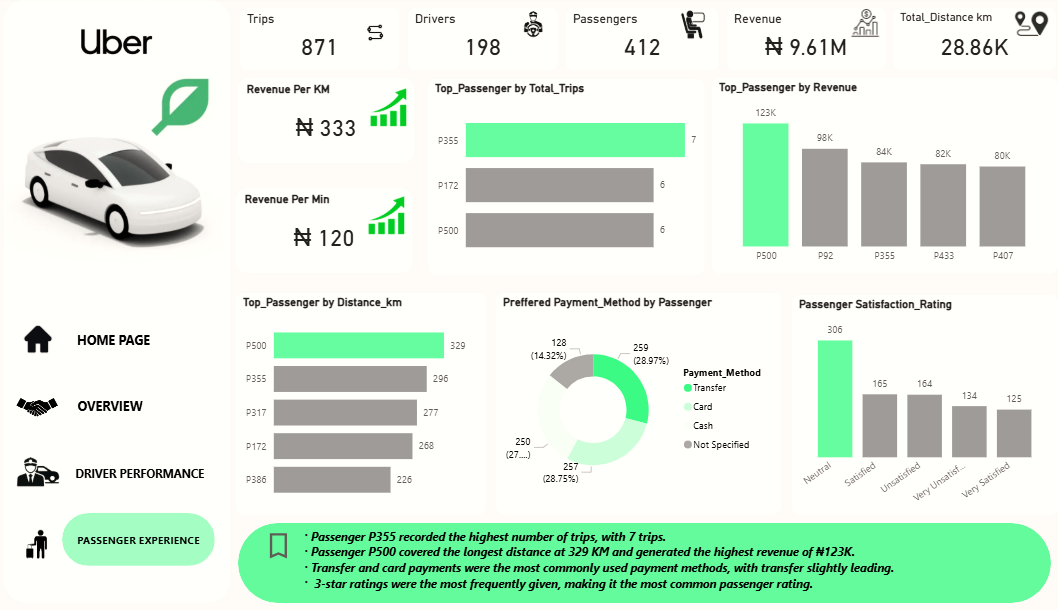

The dashboard page shown, as its layout file describes it:
{"tool":"powerbi","page":{"name":"PASSENGERS","canvas":[1350,780],"ordinal":3},"visuals":[{"type":"card","title":"Trips","fields":{"Values":["uber cleaned dataset.Total_Trips"]},"box":[306.3,14.9,202,78.6],"z":0},{"type":"card","title":"Drivers","fields":{"Values":["uber cleaned dataset.Total_Drivers"]},"box":[519.1,14.9,189.8,78.6],"z":1000},{"type":"card","title":"Passengers","fields":{"Values":["uber cleaned dataset.Total_passengers"]},"box":[719.7,14.9,193.8,78.6],"z":2000},{"type":"card","title":"Revenue","fields":{"Values":["Sum(uber cleaned dataset.Clean_Fare)"]},"box":[924.4,14.9,200.6,78.6],"z":3000},{"type":"card","title":"Total_Distance km","fields":{"Values":["Sum(uber cleaned dataset.Distance_km)"]},"box":[1135.8,14.9,207.4,78.6],"z":4000},{"type":"shape","box":[6.4,3.8,287.1,767.3],"z":5000},{"type":"barChart","title":"Top_Passenger by Total_Trips","fields":{"Category":["uber cleaned dataset.Passenger_ID"],"Y":["uber cleaned dataset.Total_Trips"]},"box":[544.9,105.7,351.1,248],"z":6000},{"type":"barChart","title":"Top_Passenger by Distance_km ","fields":{"Category":["uber cleaned dataset.Passenger_ID"],"Y":["Sum(uber cleaned dataset.Distance_km)"]},"box":[300.8,377.7,316.7,281],"z":7000},{"type":"columnChart","title":"Top_Passenger by Revenue","fields":{"Y":["Sum(uber cleaned dataset.Clean_Fare)"],"Category":["uber cleaned dataset.Passenger_ID"]},"box":[905.4,104.4,439.2,248],"z":8000},{"type":"donutChart","title":"Preffered Payment_Method by Passenger","fields":{"Category":["uber cleaned dataset.Payment_Method"],"Y":["CountNonNull(uber cleaned dataset.Passenger_ID)"]},"box":[631.4,376.8,361.9,280.6],"z":9000},{"type":"columnChart","title":"Passenger Satisfaction_Rating","fields":{"Category":["uber cleaned dataset.Satisfaction_Rating"],"Y":["uber cleaned dataset.Rating_NO"]},"box":[1007.1,379.5,337.5,279.2],"z":10000},{"type":"shape","box":[303.6,669.5,1032.8,101.6],"z":11000},{"type":"card","title":"Revenue Per KM","fields":{"Values":["uber cleaned dataset.Fare_Per_KM"]},"box":[303.6,104.4,223.6,108.4],"z":12000},{"type":"card","title":"Revenue Per Min","fields":{"Values":["uber cleaned dataset.Fare_Per_Min"]},"box":[300.9,244,223.6,108.4],"z":13000},{"type":"actionButton","box":[16.5,404,257.9,66.1],"z":14000},{"type":"actionButton","box":[7.6,487.8,266.8,66.1],"z":15000},{"type":"actionButton","box":[16.5,572.9,257.9,67.3],"z":16000},{"type":"actionButton","box":[80,656.8,194.4,67.3],"z":17000},{"type":"image","box":[7.6,41.9,275.7,346.8],"z":18000},{"type":"image","box":[448.4,17.8,55.9,54.6],"z":19000},{"type":"image","box":[650.4,16.5,55.9,38.1],"z":20000},{"type":"image","box":[853.7,17.8,55.9,36.8],"z":21000},{"type":"image","box":[1079.8,15.2,41.9,39.4],"z":22000},{"type":"image","box":[1283.1,15.2,55.9,39.4],"z":23000},{"type":"image","box":[466.3,112.5,55.6,55.6],"z":24000},{"type":"image","box":[463.6,250.8,55.6,55.6],"z":25000},{"type":"textbox","box":[373.5,670.7,935,100.4],"z":26000},{"type":"image","box":[16.5,14,266.8,87.7],"z":27000},{"type":"image","box":[19.1,585.6,61,39.4],"z":28000},{"type":"image","box":[21.6,500.5,55.9,39.4],"z":29000},{"type":"image","box":[21.6,416.7,55.9,39.4],"z":30000},{"type":"actionButton","box":[334.1,673.3,41.9,50.8],"z":31000},{"type":"image","box":[17.8,677.1,61,39.4],"z":32000}]}

Visuals, with their boxes in screenshot pixels (x1, y1, x2, y2), scaled from the page's 1350x780 canvas onto the 1058x610 screenshot:
"Trips" card: (240,12,398,73)
"Drivers" card: (407,12,556,73)
"Passengers" card: (564,12,716,73)
"Revenue" card: (724,12,882,73)
"Total_Distance km" card: (890,12,1053,73)
shape: (5,3,230,603)
"Top_Passenger by Total_Trips" barChart: (427,83,702,277)
"Top_Passenger by Distance_km " barChart: (236,295,484,515)
"Top_Passenger by Revenue" columnChart: (710,82,1054,276)
"Preffered Payment_Method by Passenger" donutChart: (495,295,778,514)
"Passenger Satisfaction_Rating" columnChart: (789,297,1054,515)
shape: (238,524,1047,603)
"Revenue Per KM" card: (238,82,413,166)
"Revenue Per Min" card: (236,191,411,276)
actionButton: (13,316,215,368)
actionButton: (6,381,215,433)
actionButton: (13,448,215,501)
actionButton: (63,514,215,566)
image: (6,33,222,304)
image: (351,14,395,57)
image: (510,13,554,43)
image: (669,14,713,43)
image: (846,12,879,43)
image: (1006,12,1049,43)
image: (365,88,409,131)
image: (363,196,407,240)
textbox: (293,525,1025,603)
image: (13,11,222,80)
image: (15,458,63,489)
image: (17,391,61,422)
image: (17,326,61,357)
actionButton: (262,527,295,566)
image: (14,530,62,560)
